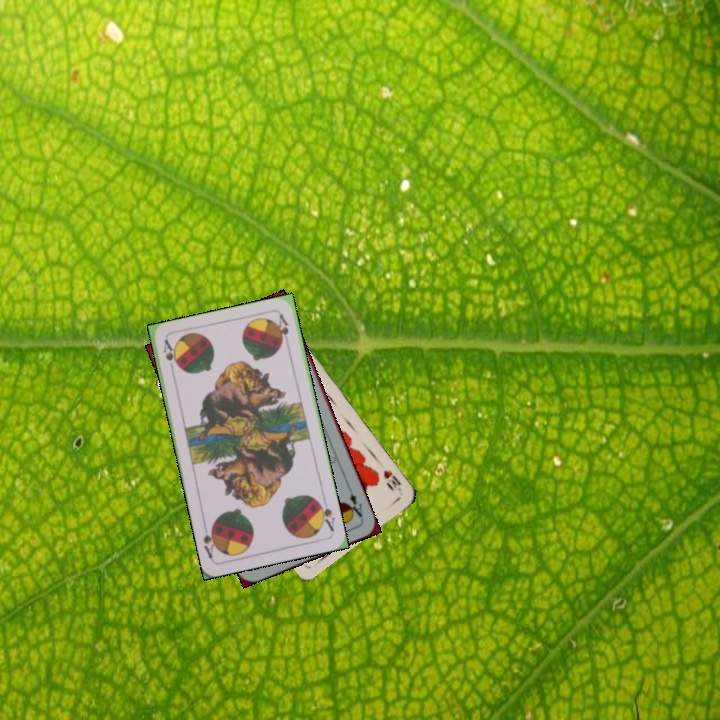EA: (343, 483, 365, 520)
H10: (379, 466, 404, 494)
SA: (313, 496, 338, 534), (159, 336, 180, 377)
